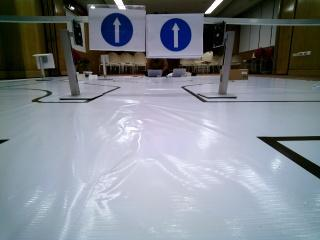straight: (88, 3, 144, 50), (147, 13, 200, 56)
